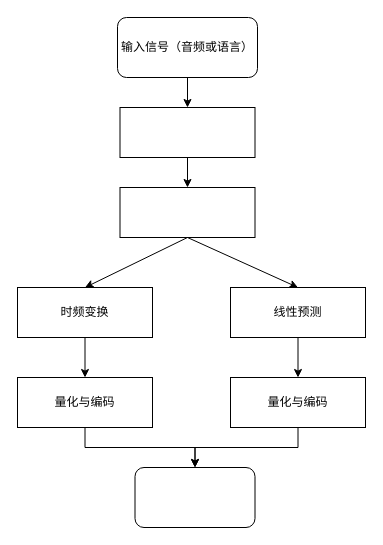
Image size: 383x545. Some labels were removed from this diagram. Each missing label, with the box of its shape:
信号分类与路径选择: (119, 186, 255, 238)
多声道\立体声预处理: (119, 106, 255, 158)
封装与输出: (134, 466, 255, 528)
